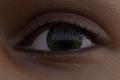eye: (47, 26, 83, 51)
